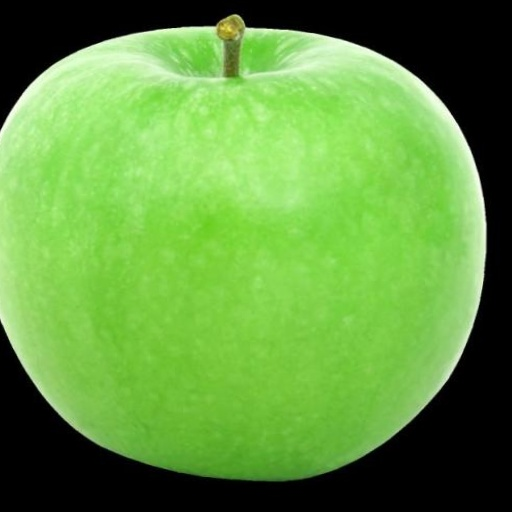fruit: (0, 28, 485, 479)
